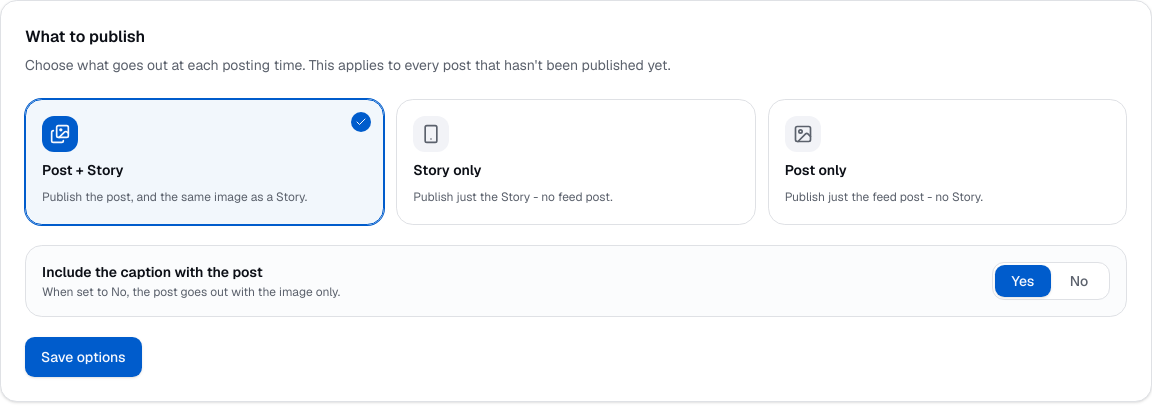
Test: PublishOptionsCard › locks the caption choice for Story only, since Stories have no captions
The width and height of the screenshot is (1152, 420).
Click the radio button labelled "Story only Publish just the Story - no feed post.".
click(431, 134)  # box top-left (396, 99), bottom-right (756, 224)
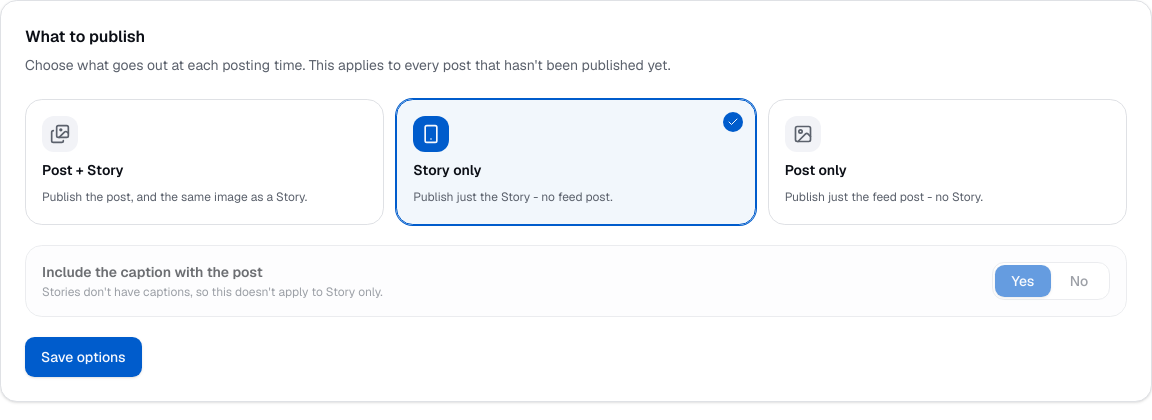
Now the radio button labelled "Yes" is disabled, box top-left (995, 264), bottom-right (1051, 296)
Now the radio button labelled "No" is disabled, box top-left (1051, 264), bottom-right (1107, 296)
Now the text "Stories don't have captions" is shown, box top-left (42, 284), bottom-right (383, 300)
